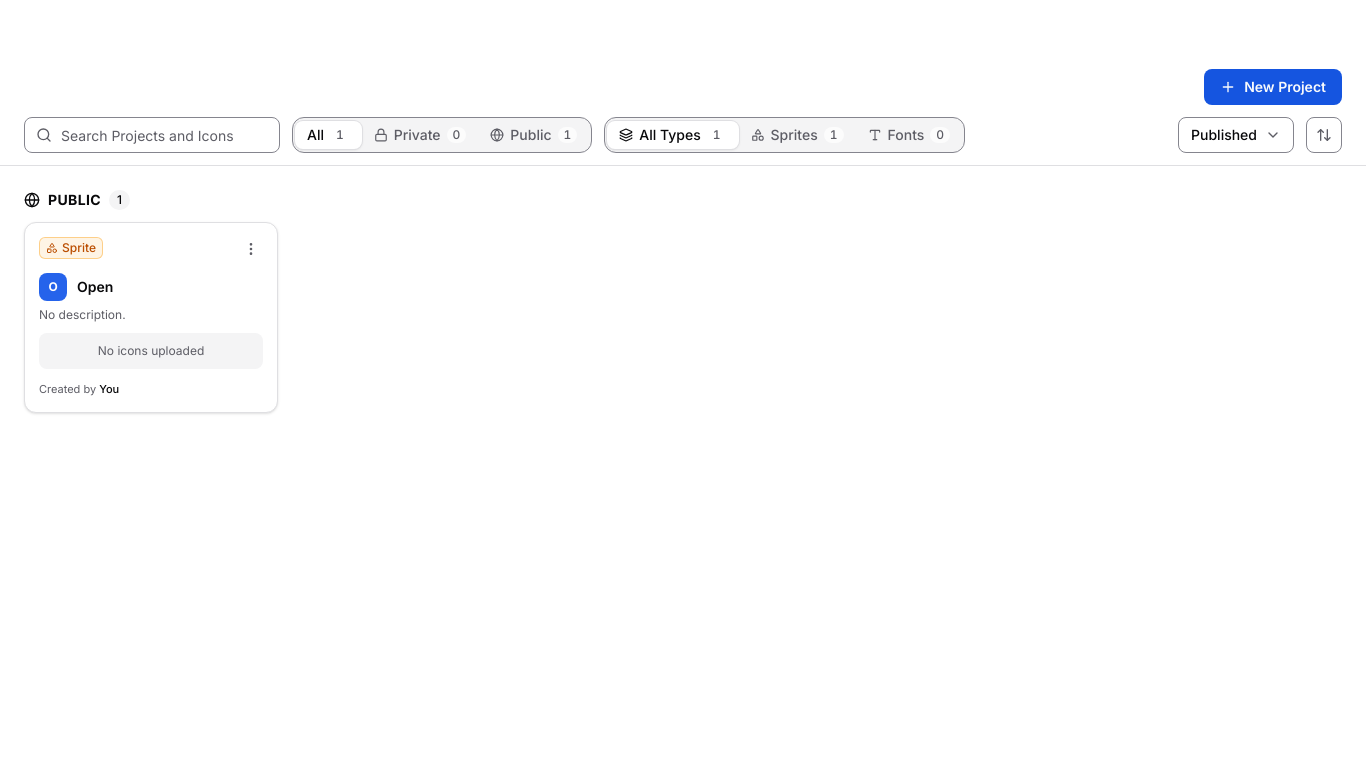
Test: making a project public or private › keeps the dialog open and shows the error when the change fails
Click the button named "Actions for Open" at (251, 249), box [239,237,263,261]
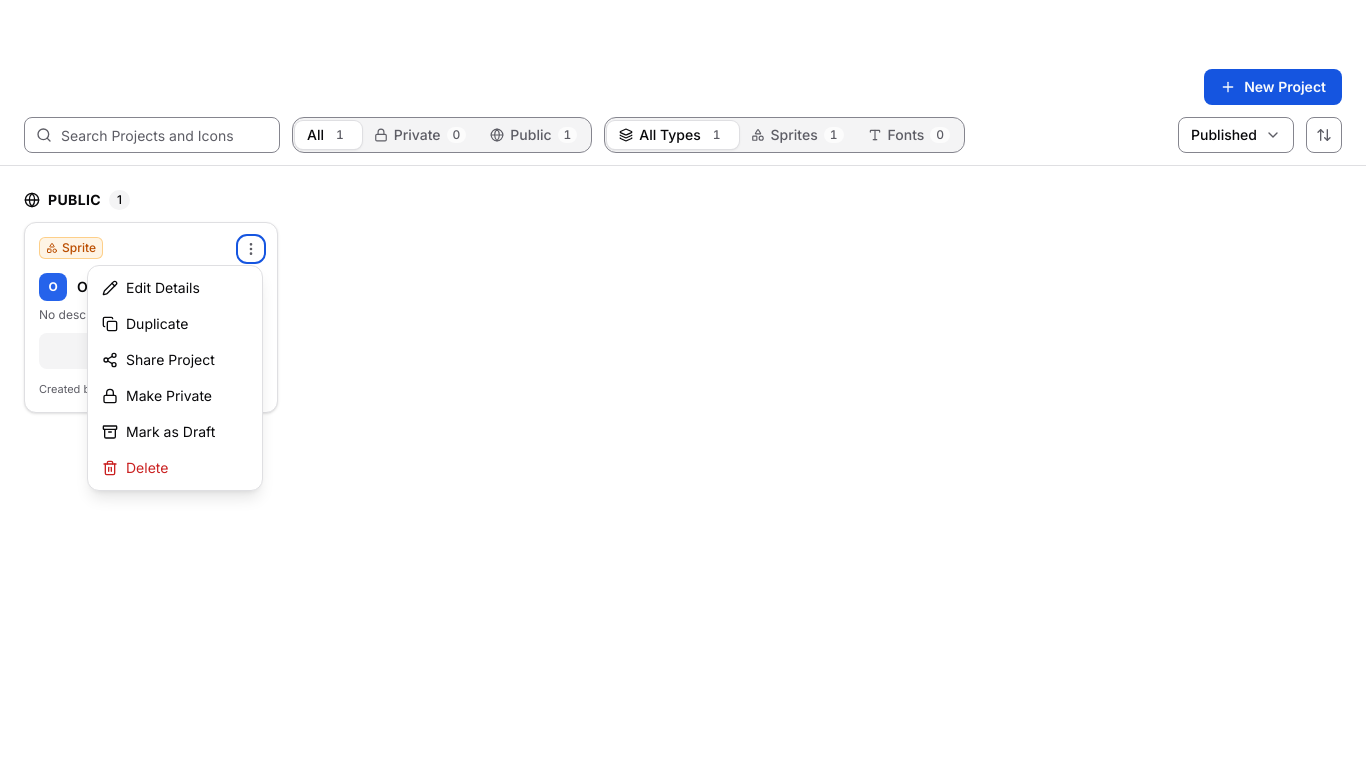
Click the menu item "Make Private" at (175, 396), box [92,378,258,414]
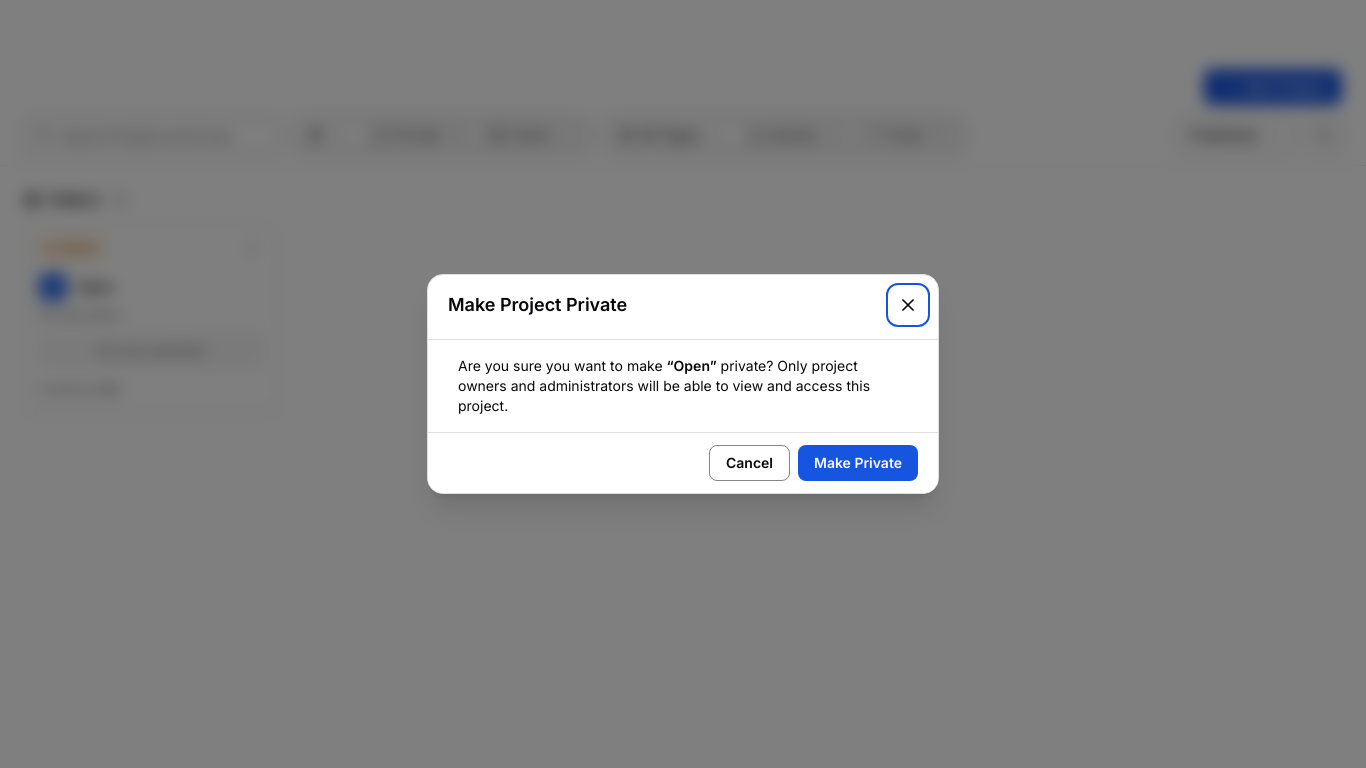
Click the button "Make Private" at (858, 463), box [798,445,918,481]
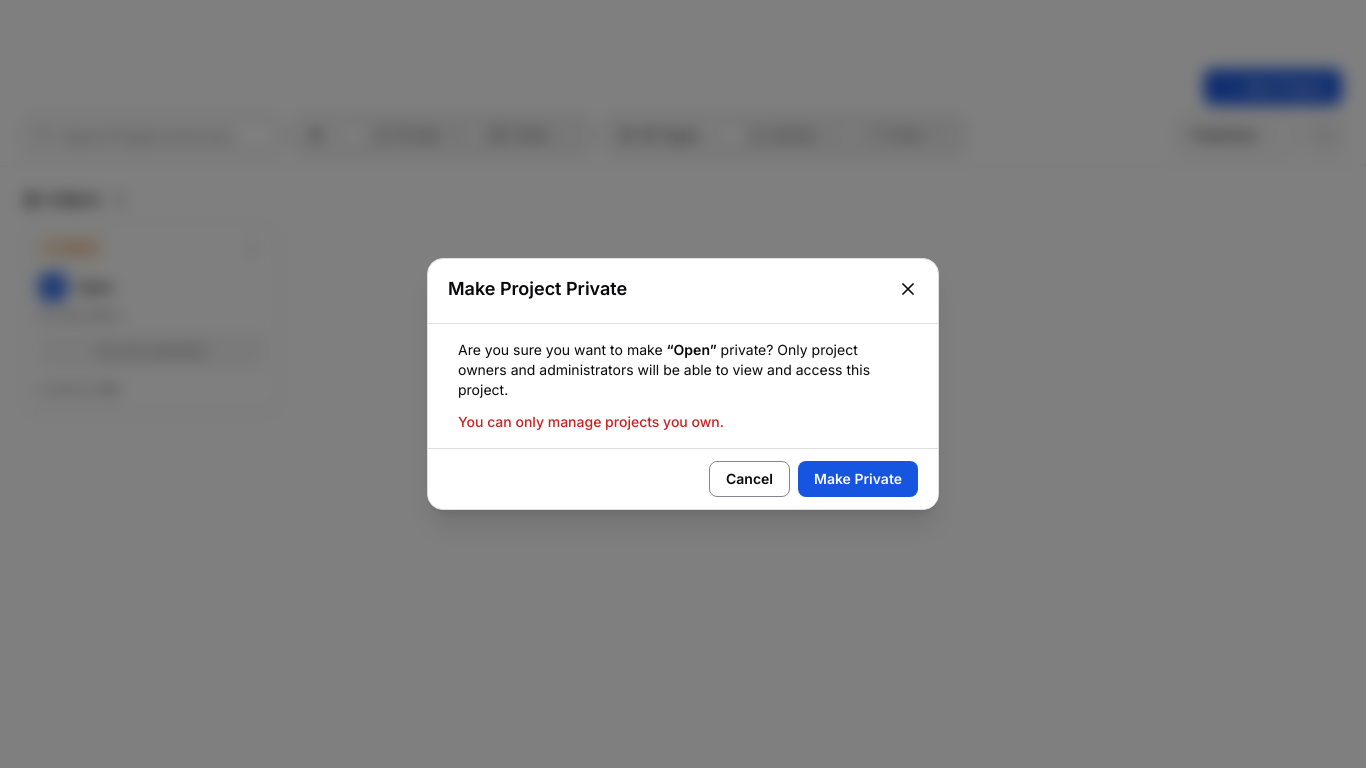
Now the dialog is shown, box [427,258,939,510]
Now the message reads "You can only manage projects you own.", box [458,413,724,430]
